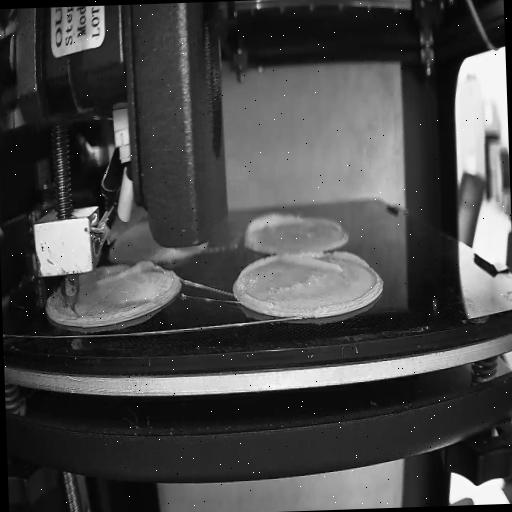over_extrusion: (276, 250, 370, 276), (243, 208, 304, 248), (233, 254, 278, 308), (86, 261, 160, 291), (318, 215, 342, 232)
